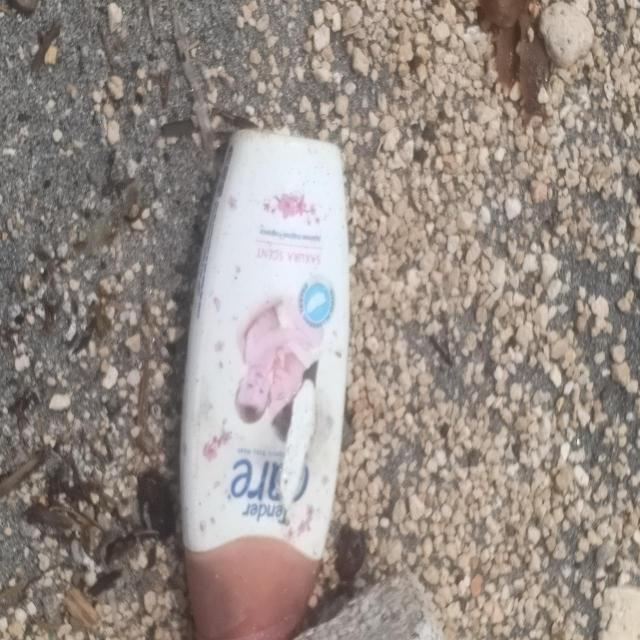plastic_waste: (178, 127, 353, 640)
